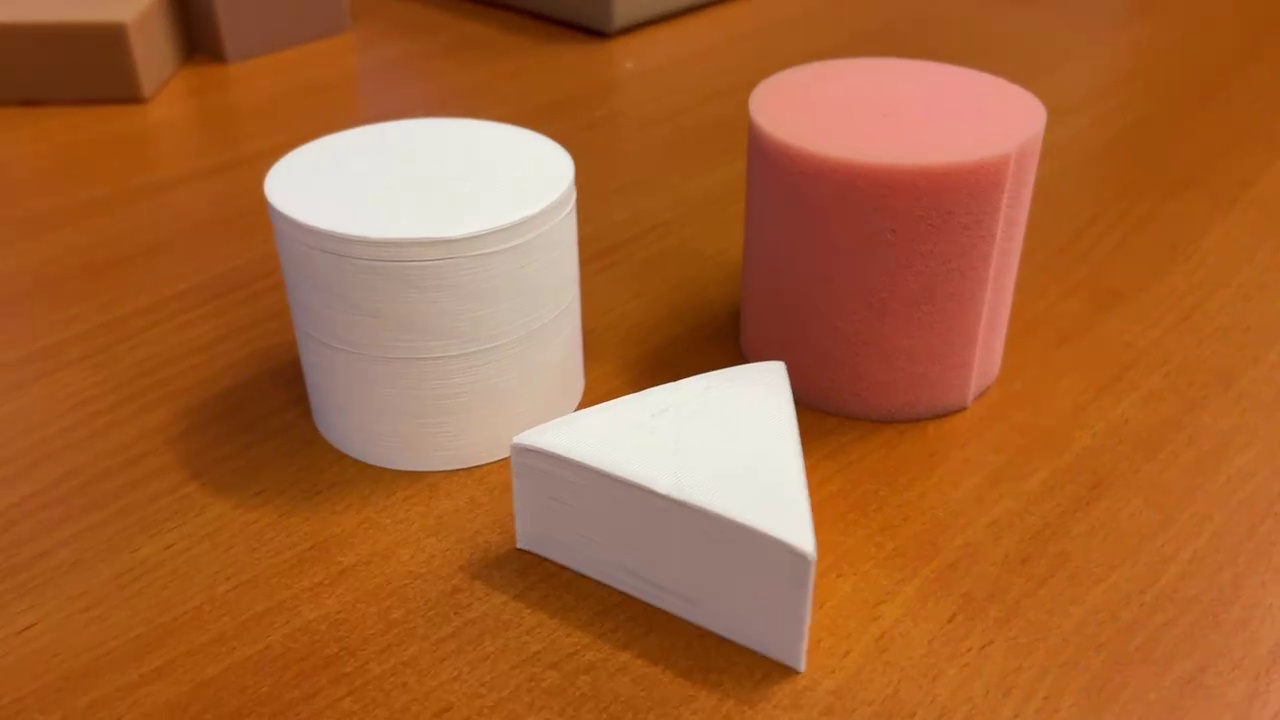Cylinder: (726, 50, 1054, 431), (259, 108, 592, 483)
Triangle_short: (506, 351, 826, 683)
